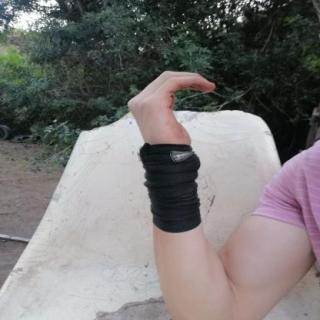HAA: (115, 61, 226, 166)
